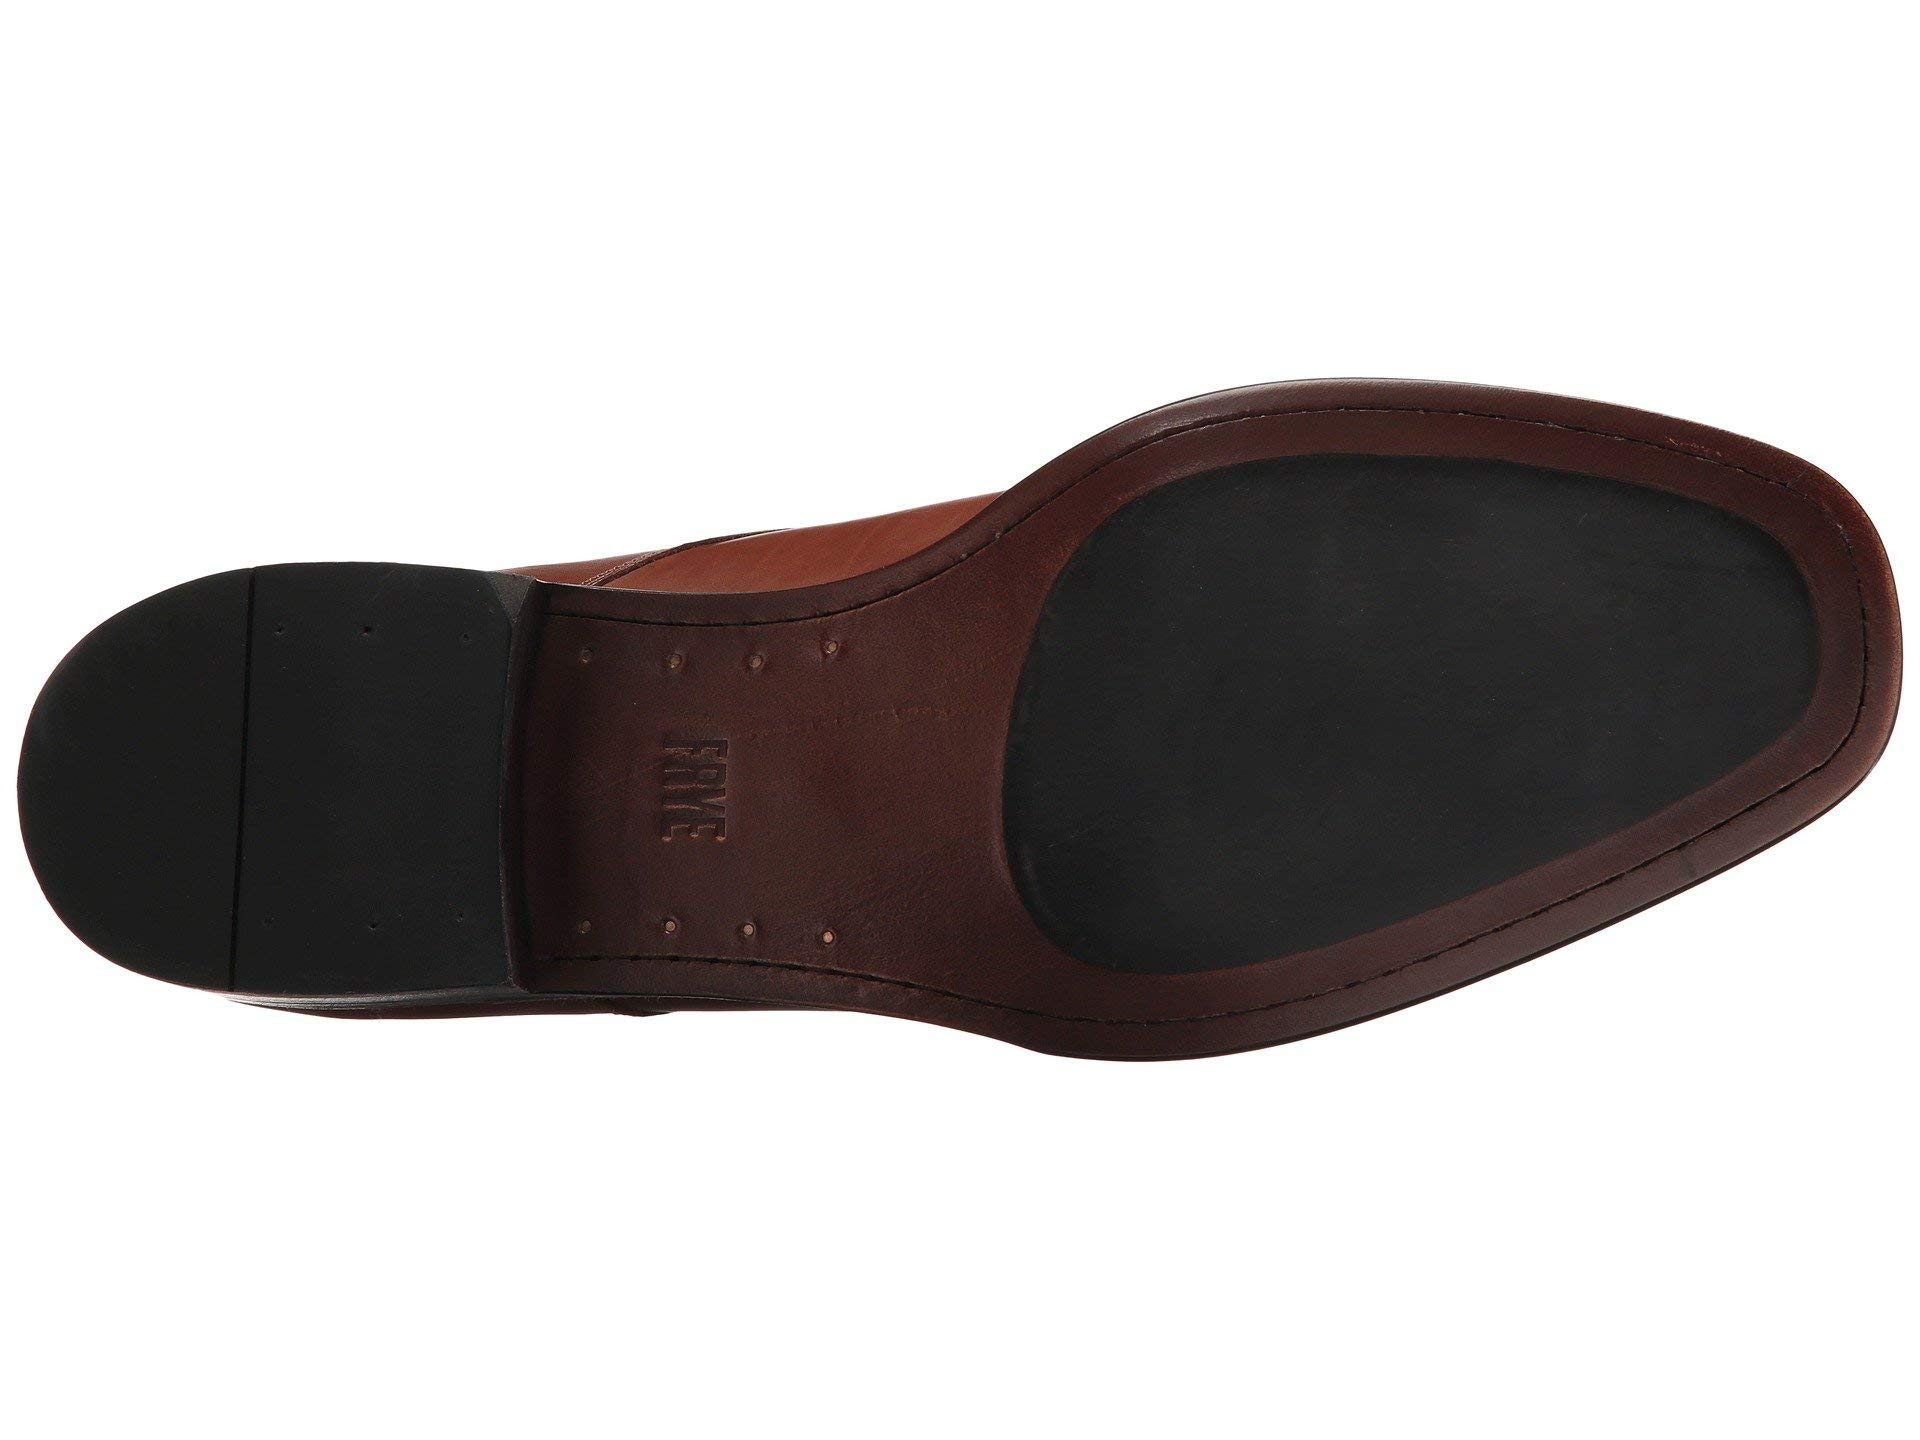exclude: (534, 458, 1058, 1050)
line: (178, 569, 311, 1001)
other: (1007, 452, 1813, 973)
